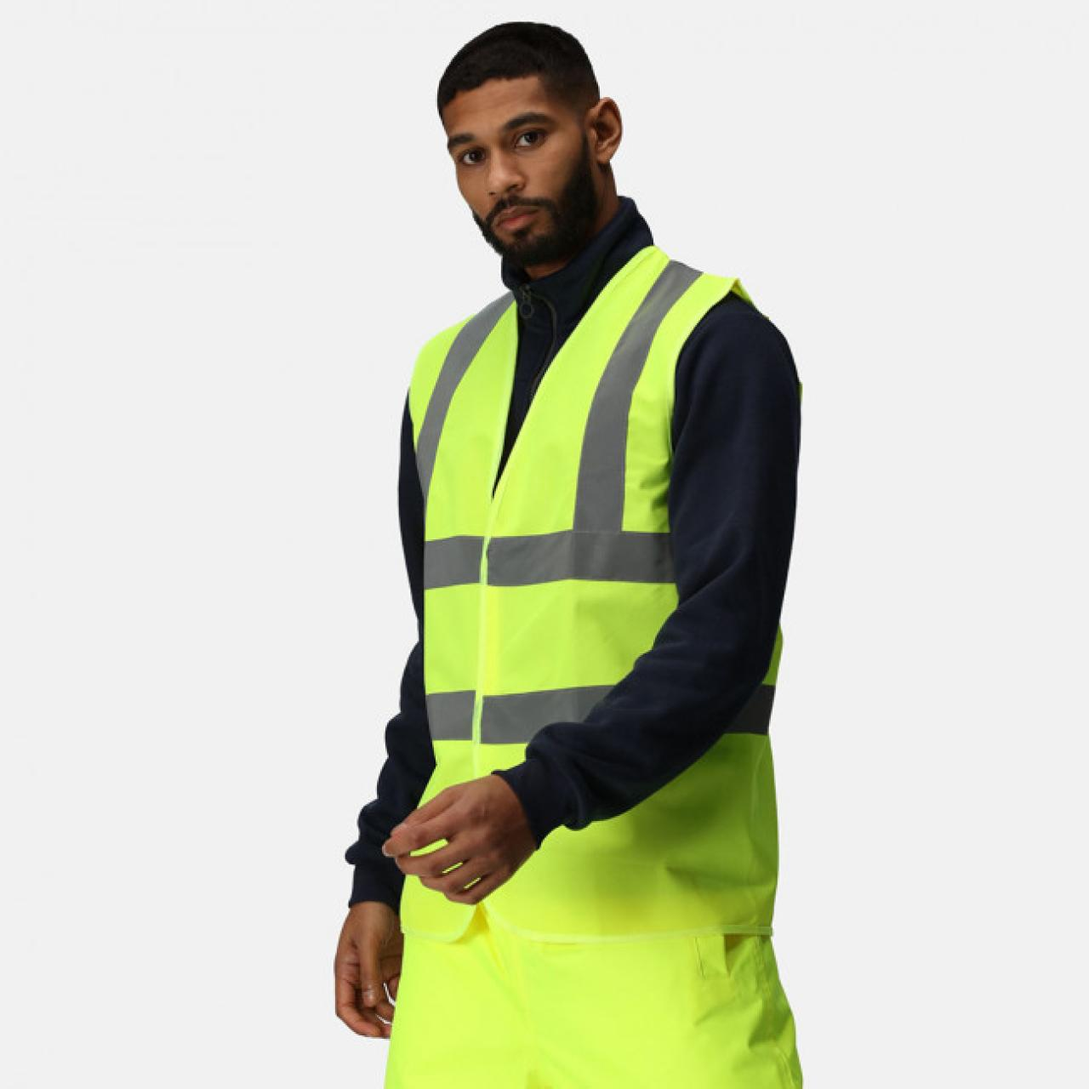Person: (289, 0, 865, 1089)
Safety_Vest: (391, 245, 794, 938)
